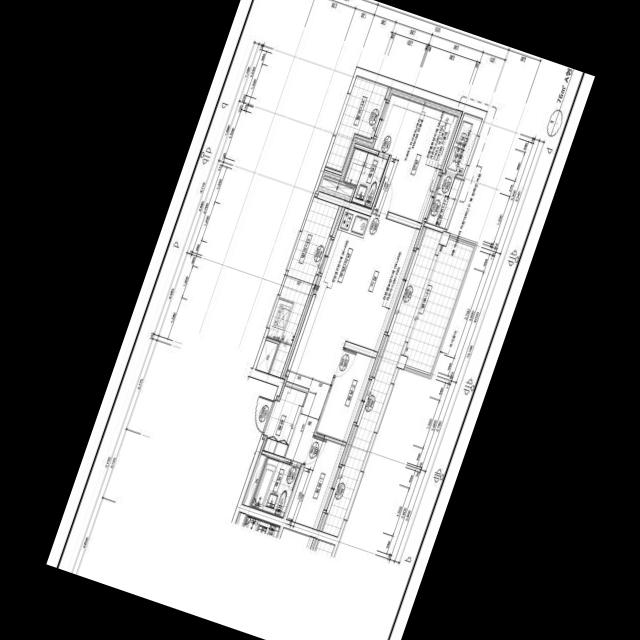background: (46, 0, 594, 640)
space_balconi: (322, 227, 442, 536), (267, 196, 339, 377), (325, 75, 388, 171), (426, 173, 461, 228)
space_bedroom: (370, 87, 462, 223), (316, 347, 378, 442), (286, 435, 347, 530)
space_front: (261, 384, 306, 456)
space_kitchen: (284, 206, 370, 389)
space_living_room: (286, 213, 422, 463)
space_other: (242, 453, 266, 505), (317, 177, 353, 201), (255, 339, 277, 372)
space_outdoor_room: (445, 112, 482, 175)
space_toilet: (250, 456, 300, 517), (343, 147, 388, 208)
